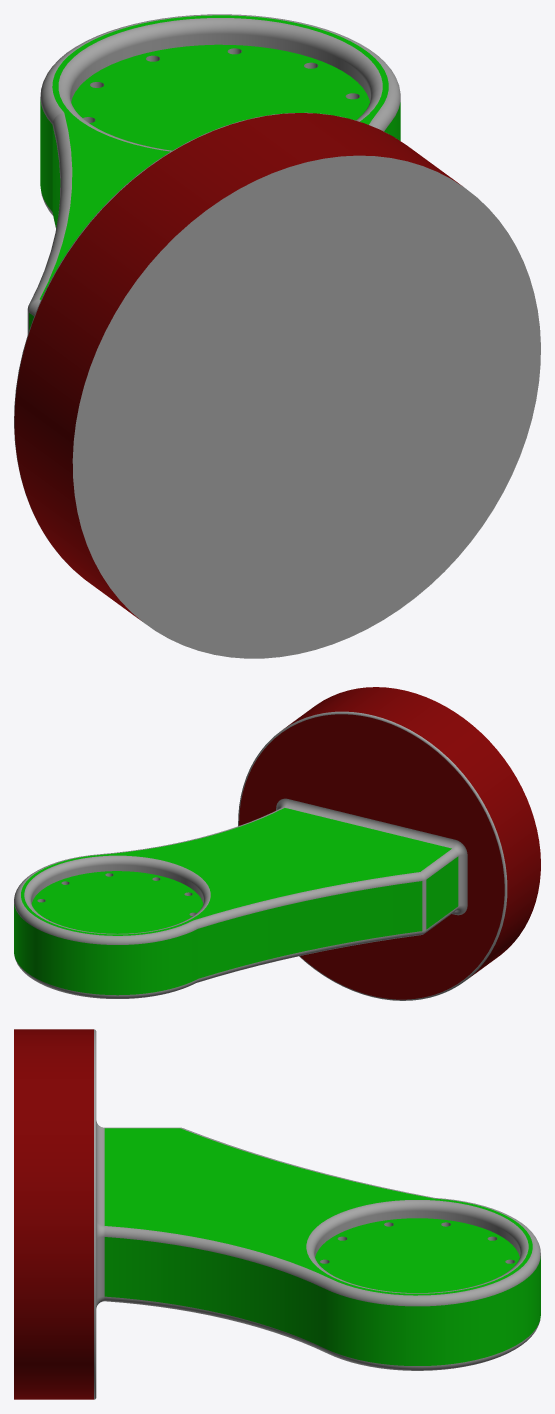
3 views of the same model, one above another, from view 1: azimuth 30°, elevation 25°; view 2: azimuth 150°, elevation 25°; view 3: azimuth 270°, elevation 25° (orthographic). The views are drawn at different scales.
Parts seen in each view (by area): view 1: Base0; view 2: Base0; view 3: Base0.
Boxes of the visible parts, box(x1,y1,x2,y2) form: Base0: box(14, 14, 540, 658); Base0: box(14, 687, 540, 1000); Base0: box(14, 1029, 540, 1399).
Size of the model in its own units: 0.5748 by 0.64 by 0.4499.
